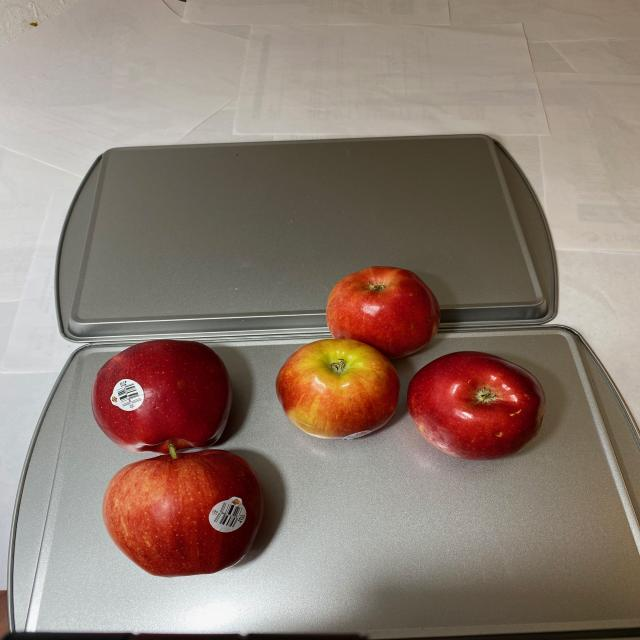Apple: (275, 263, 554, 461), (81, 336, 266, 582)
